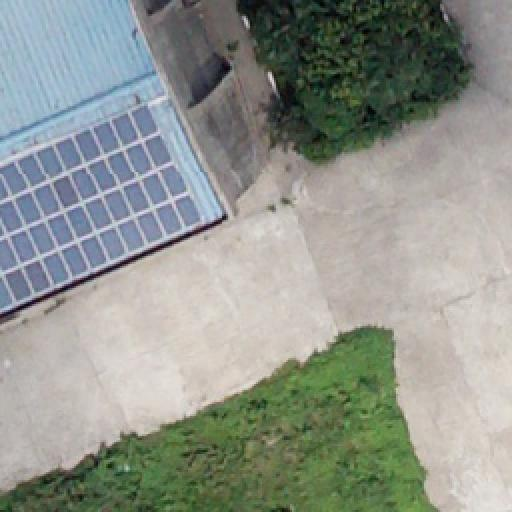solar-panel: (0, 103, 200, 305)
